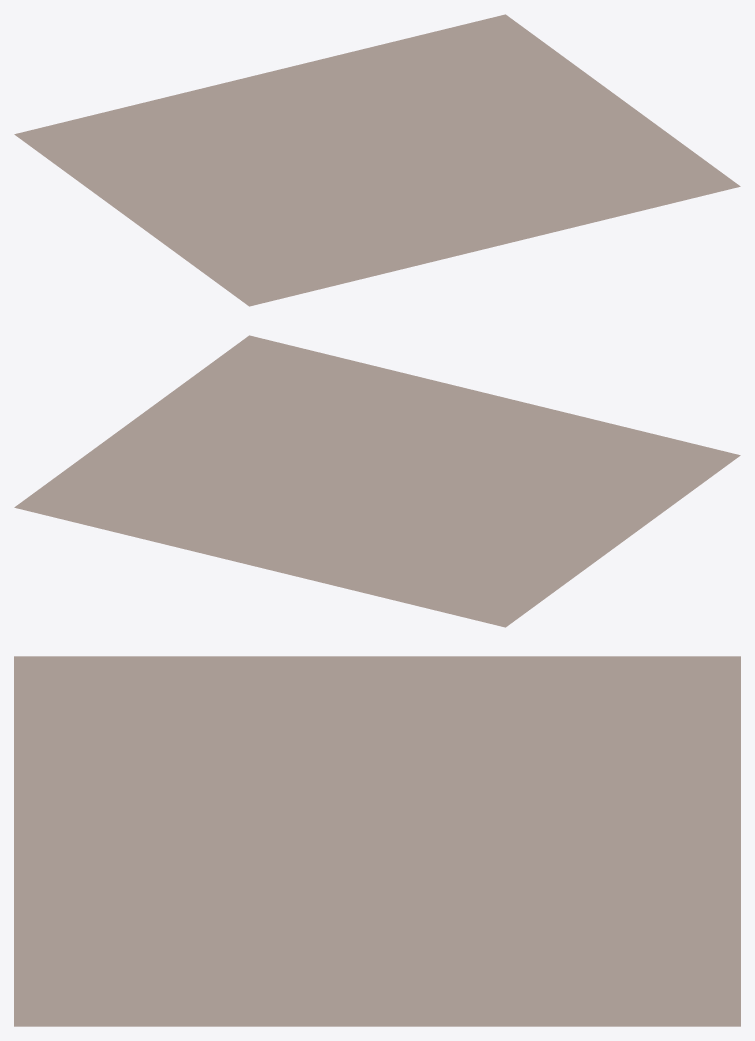
The model's file is TRANNHAHOATIET.fbx.
3 renders of one model, top to bottom at view 1: azimuth 30°, elevation 25°; view 2: azimuth 150°, elevation 25°; view 3: azimuth 270°, elevation 25°, orthographic. The views are drawn at different scales.
Visible parts, largest first — view 1: TRANNHAHOATIET; view 2: TRANNHAHOATIET; view 3: TRANNHAHOATIET.
Part boxes in pixels (x1=…): TRANNHAHOATIET: x1=14, y1=14, x2=740, y2=306; TRANNHAHOATIET: x1=14, y1=335, x2=740, y2=627; TRANNHAHOATIET: x1=14, y1=656, x2=740, y2=1026.
Size of the model in its own units: 5820 by 1.34 by 4826.
